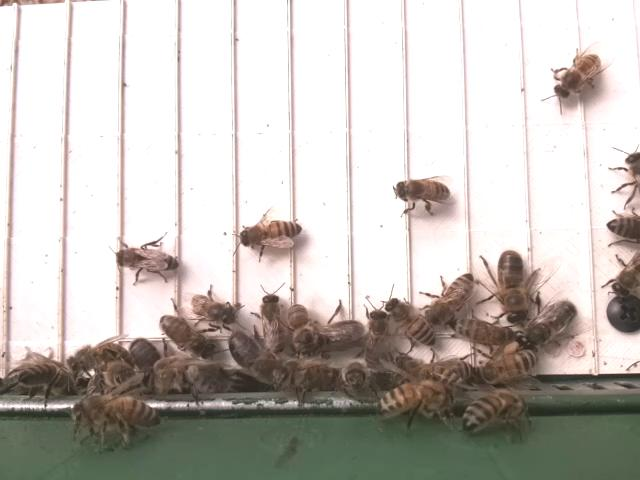Drone: (226, 325, 277, 387), (495, 246, 533, 327), (522, 299, 580, 350)
Worker: (154, 311, 217, 359), (424, 271, 477, 326), (384, 291, 436, 347), (550, 50, 603, 101), (234, 217, 304, 253), (116, 243, 180, 279), (449, 318, 513, 350), (259, 287, 288, 353), (390, 178, 452, 206)
